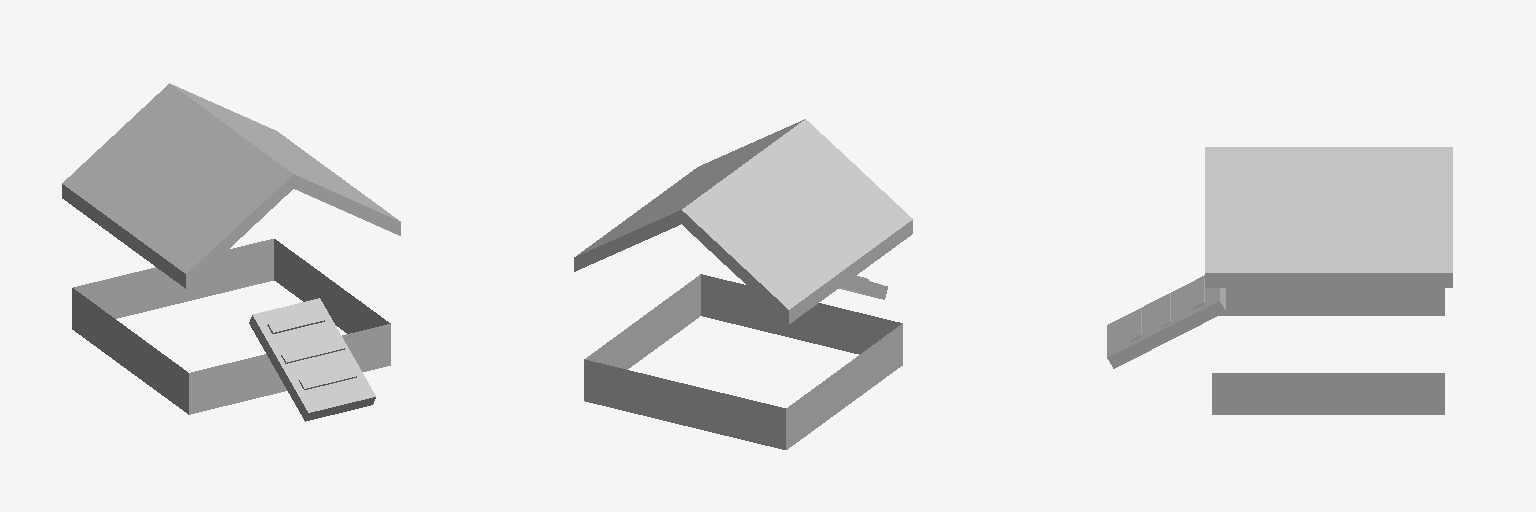
The model's file is chickencoopwood.obj.
The picture shows the model from 3 angles: view 1: azimuth 30°, elevation 25°; view 2: azimuth 150°, elevation 25°; view 3: azimuth 270°, elevation 25°; orthographic projection.
Parts seen in each view (by area): view 1: chickencoop.001_Cube.043; view 2: chickencoop.001_Cube.043; view 3: chickencoop.001_Cube.043.
Part boxes in pixels (x1,y1,x2,y2): chickencoop.001_Cube.043: (62,83,400,421); chickencoop.001_Cube.043: (574,119,912,449); chickencoop.001_Cube.043: (1107,147,1452,414).
Size of the model in its own units: 1.07 by 1.04 by 1.48.